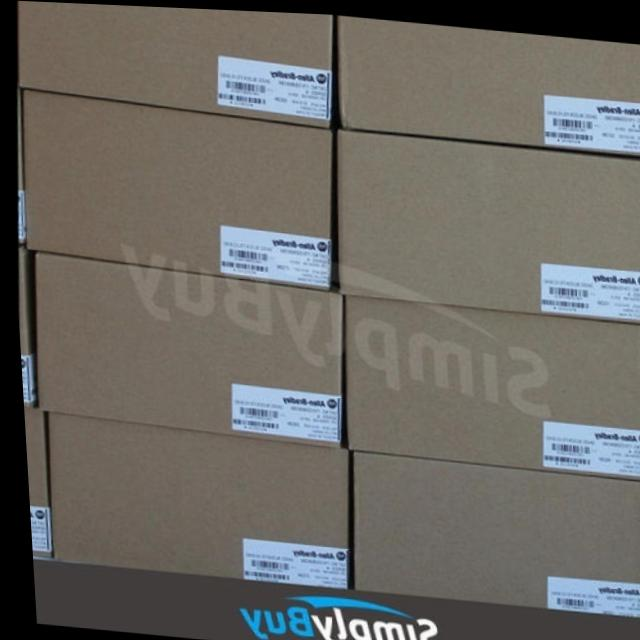box: (22, 89, 332, 287), (334, 127, 640, 318), (34, 254, 339, 445), (341, 292, 640, 475), (42, 412, 342, 588), (348, 450, 640, 613), (339, 14, 640, 148), (16, 1, 333, 124), (19, 408, 44, 560), (15, 248, 28, 409)
